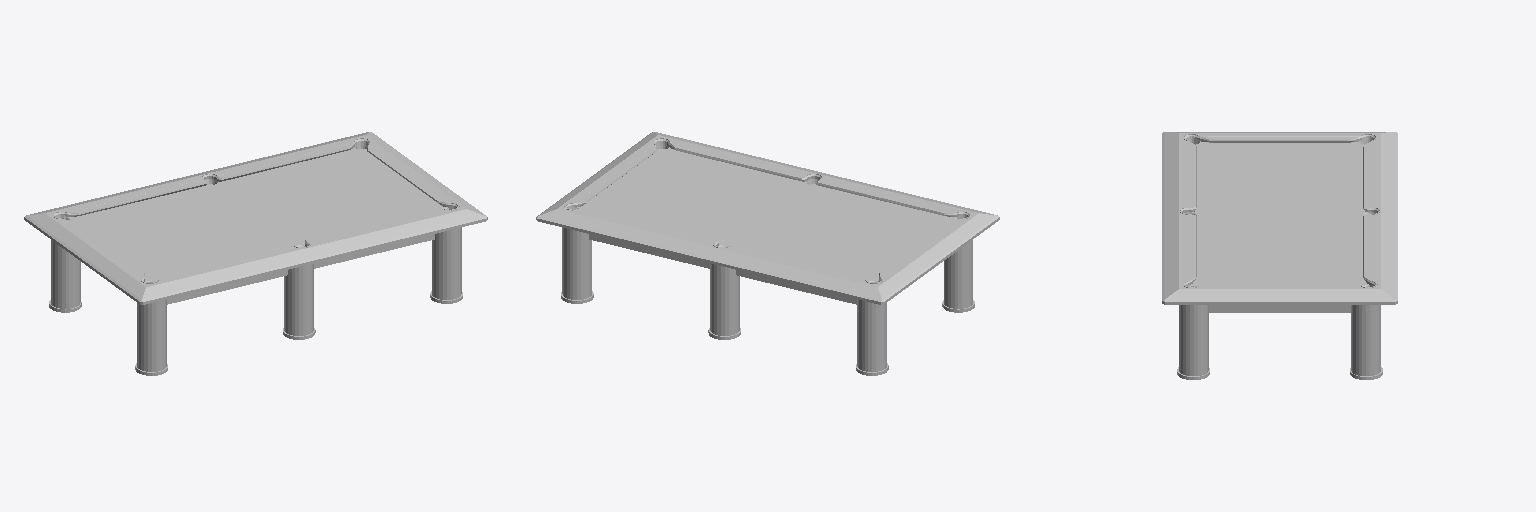
The model's file is poolTable.obj.
3 renders of one model, left to right at view 1: azimuth 30°, elevation 25°; view 2: azimuth 150°, elevation 25°; view 3: azimuth 270°, elevation 25°, orthographic.
Visible parts, largest first — view 1: poolTable; view 2: poolTable; view 3: poolTable.
Part boxes in pixels (bbox=[...]): poolTable: bbox=[24, 132, 487, 375]; poolTable: bbox=[536, 132, 999, 375]; poolTable: bbox=[1162, 132, 1397, 379].
Size of the model in its own units: 3.39 by 0.8469 by 2.